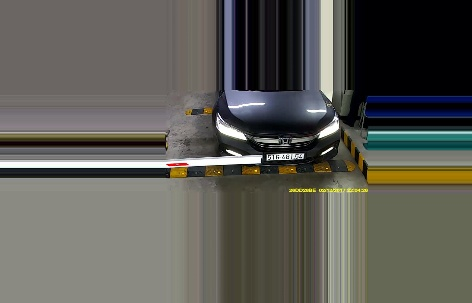plate: (262, 150, 305, 163)
